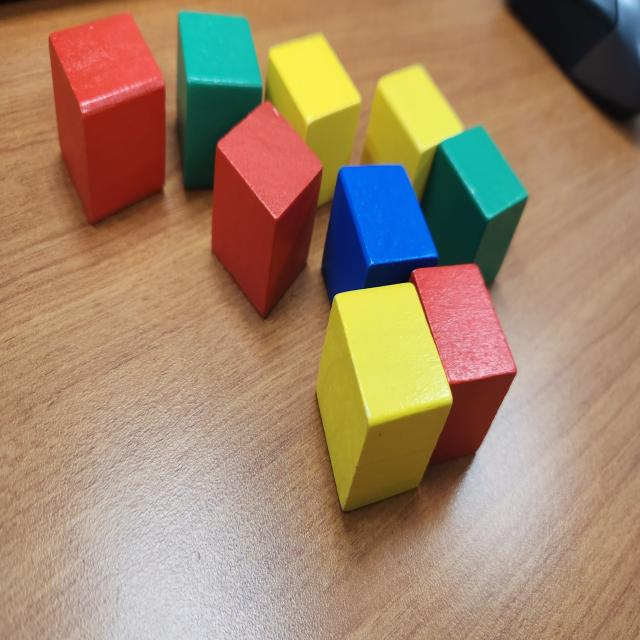blue: (317, 164, 440, 295)
green: (414, 125, 530, 284), (175, 10, 263, 195)
red: (210, 98, 324, 322), (48, 12, 166, 224), (410, 262, 518, 468)
yellow: (314, 277, 454, 513), (264, 34, 362, 212), (364, 63, 464, 198)
